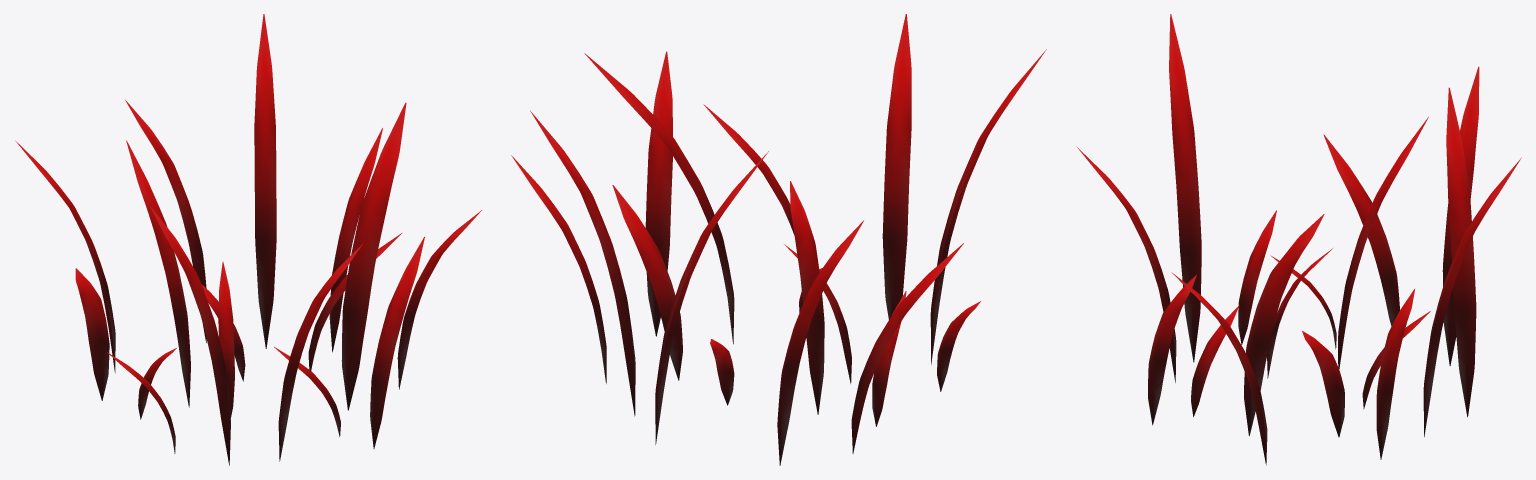
File: grass.fbx
3 renders of one model, left to right at view 1: azimuth 30°, elevation 25°; view 2: azimuth 150°, elevation 25°; view 3: azimuth 270°, elevation 25°, orthographic. The views are drawn at different scales.
Parts seen in each view (by area): view 1: grass.004; view 2: grass.004; view 3: grass.004.
Boxes of the visible parts, x1,y1,x2,y2 form: grass.004: (15,14,481,465); grass.004: (511,14,1046,465); grass.004: (1076,14,1521,465).
Size of the model in its own units: 172 by 136 by 182.
